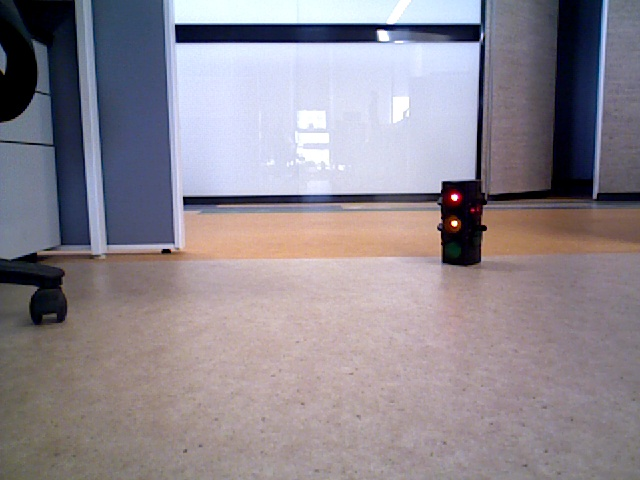red: (442, 184, 480, 257)
